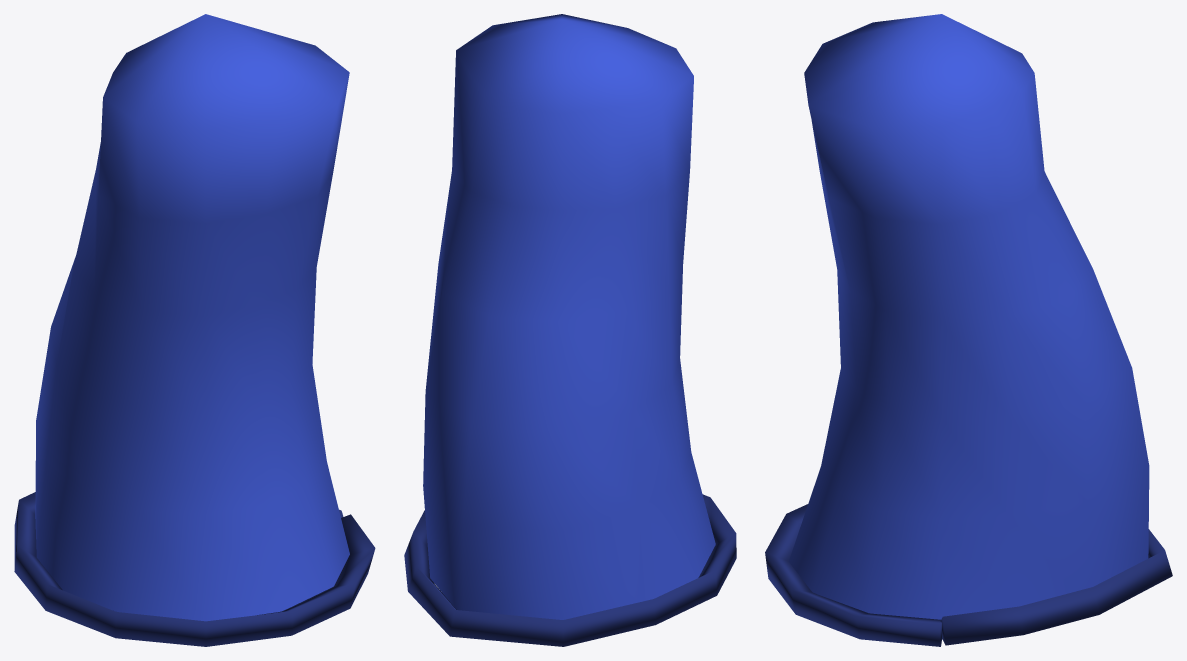
Rendered from shroomite_armor_boot.L.glb.
3 views of the same model, side by side, from view 1: azimuth 30°, elevation 25°; view 2: azimuth 150°, elevation 25°; view 3: azimuth 270°, elevation 25° (orthographic). The views are drawn at different scales.
Parts seen in each view (by area): view 1: shroomite_armor_boot.L; view 2: shroomite_armor_boot.L; view 3: shroomite_armor_boot.L.
Part boxes in pixels (x1,y1,x2,y2): shroomite_armor_boot.L: (14, 14, 375, 646); shroomite_armor_boot.L: (404, 14, 736, 646); shroomite_armor_boot.L: (765, 14, 1172, 646).
Bounding box in the file's own units: 0.1684 × 0.2958 × 0.1934.
